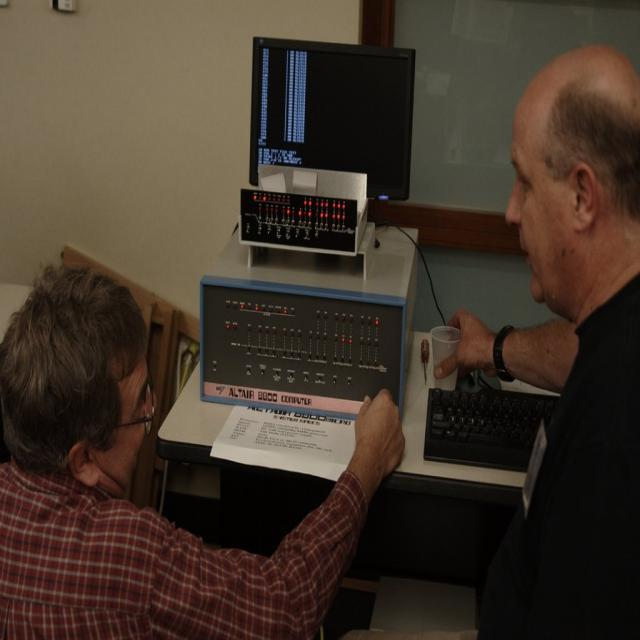others: (177, 27, 433, 447)
